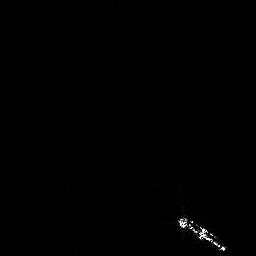ship: (175, 214, 230, 253)
